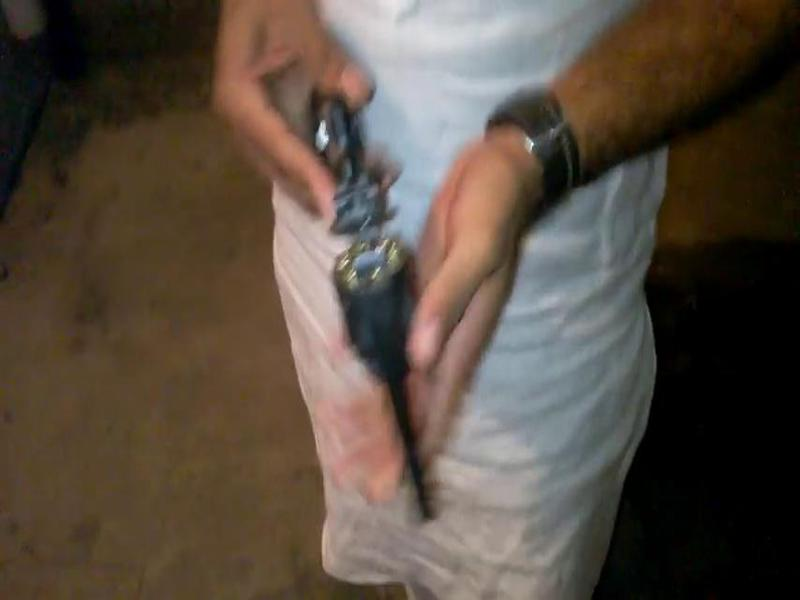Revolver: (288, 100, 466, 546)
